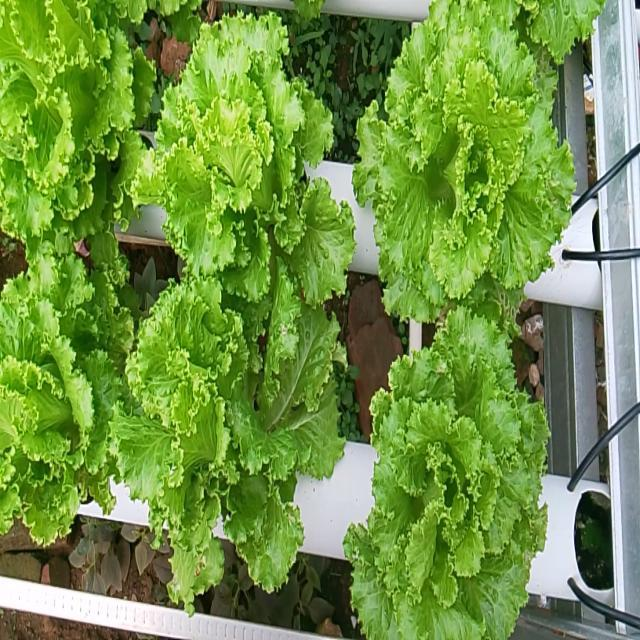Mature: (352, 1, 601, 321), (110, 274, 344, 605), (128, 6, 354, 328), (343, 300, 548, 639), (0, 0, 154, 255), (0, 245, 131, 539)
